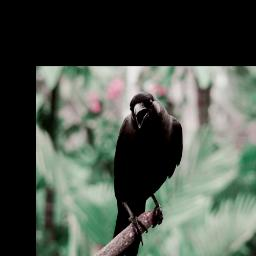Crow: (112, 91, 183, 256)
